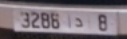2: (31, 11, 40, 28)
3: (20, 10, 30, 29)
6: (51, 12, 59, 28)
8: (97, 14, 108, 32), (41, 12, 49, 28)
d: (73, 16, 84, 27)
